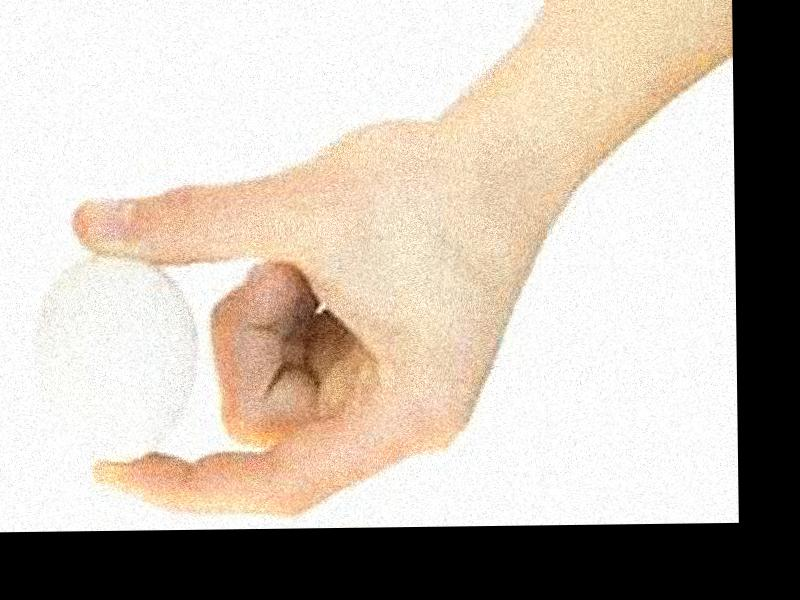Eggs: (37, 251, 199, 462)
